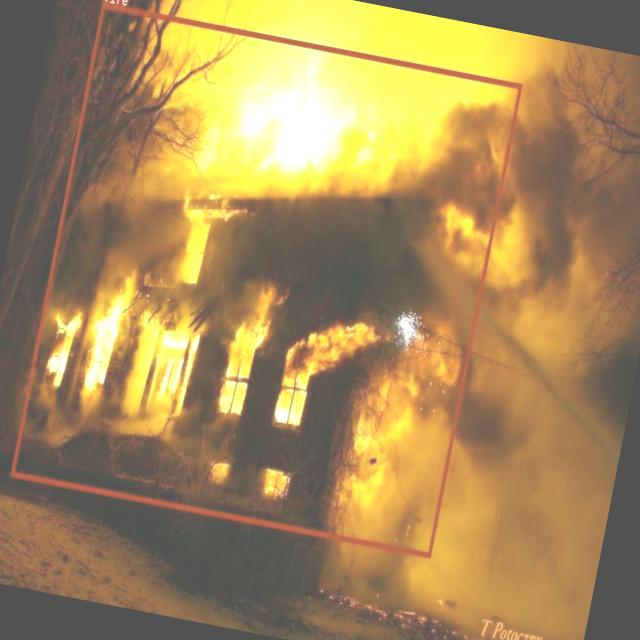fire: (9, 1, 522, 558)
